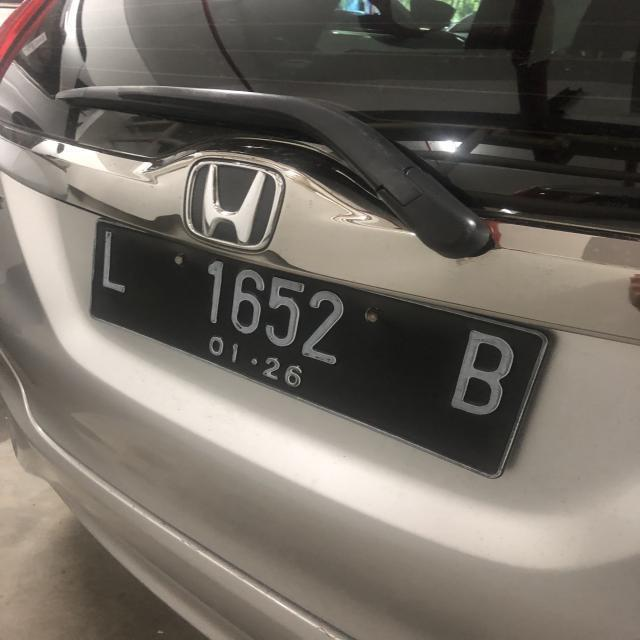1: (203, 256, 226, 326)
2: (300, 288, 348, 368)
5: (264, 275, 306, 347)
6: (228, 268, 264, 336)
B: (444, 328, 518, 418)
L: (95, 226, 129, 298)
